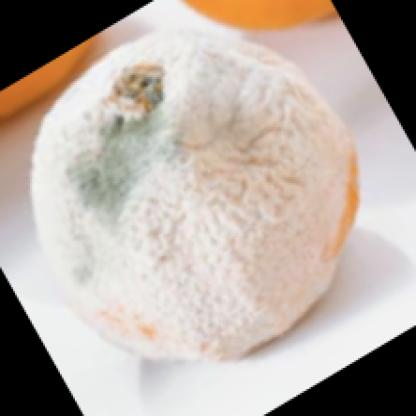rotten: (31, 24, 361, 364)
